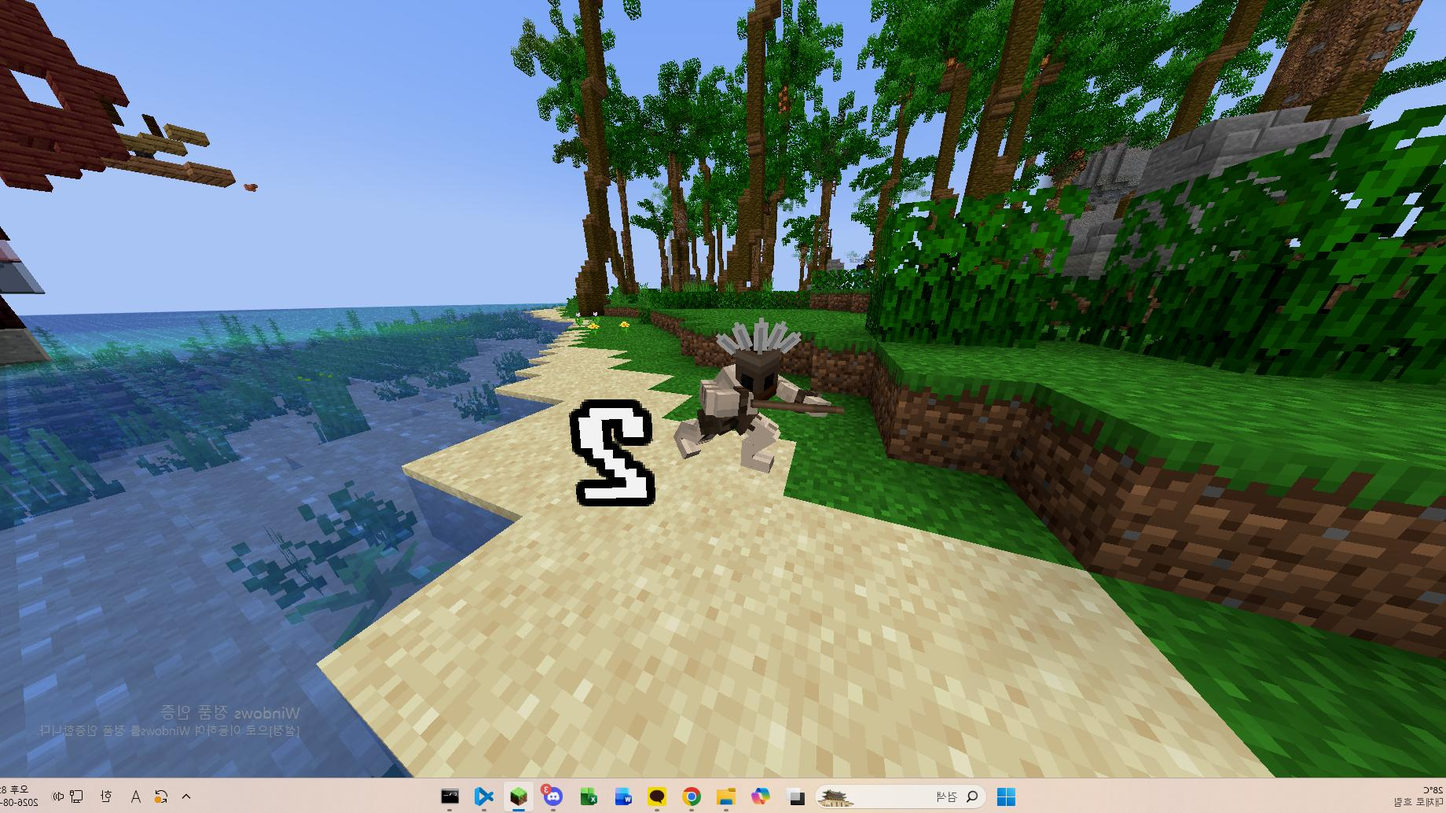bow_indian: (654, 317, 851, 492)
